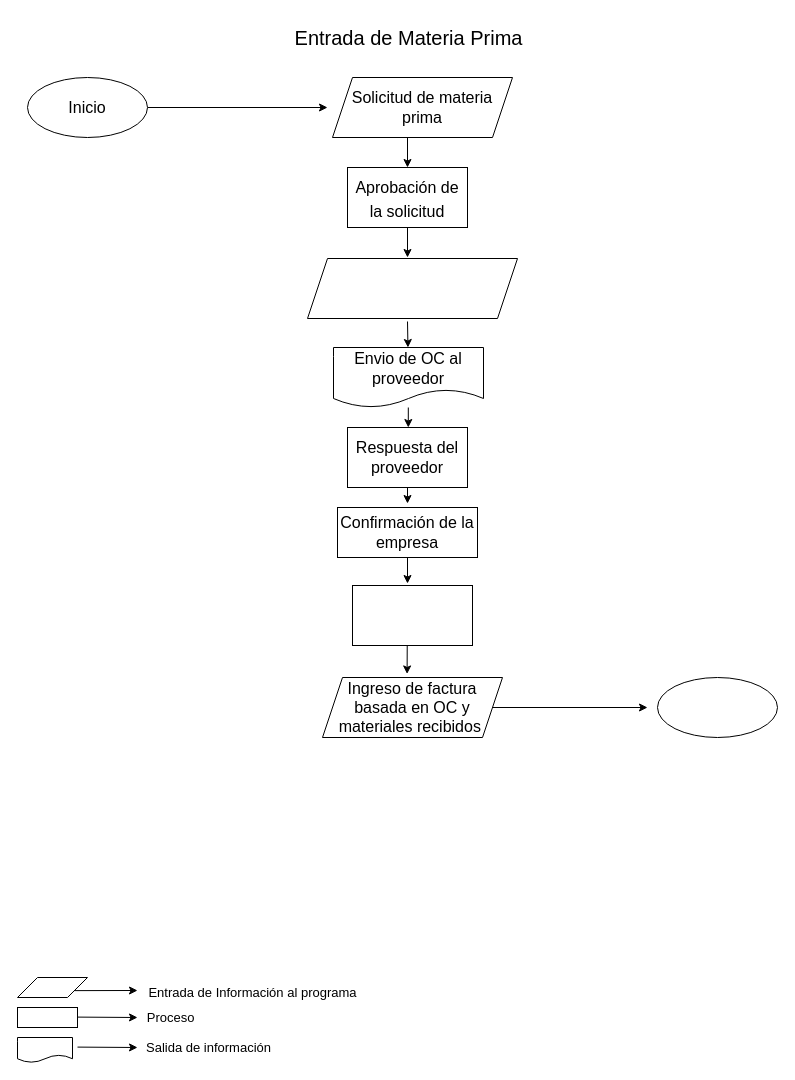
Image size: 795x1080. Some labels were removed from this diagram. Here are the shapes that lost their labels. From the top down, the centre of each, then its label:
the point at 412,288: Creación de la orden de compra
the point at 412,615: Recibimiento y verificación de materiales
the point at 717,707: Fin
